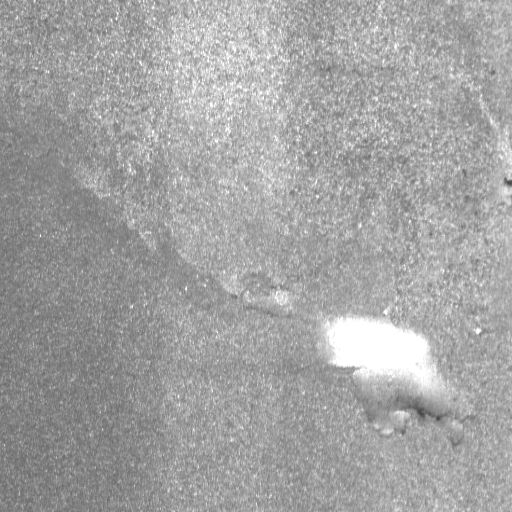qiaopi: (322, 309, 462, 439)
